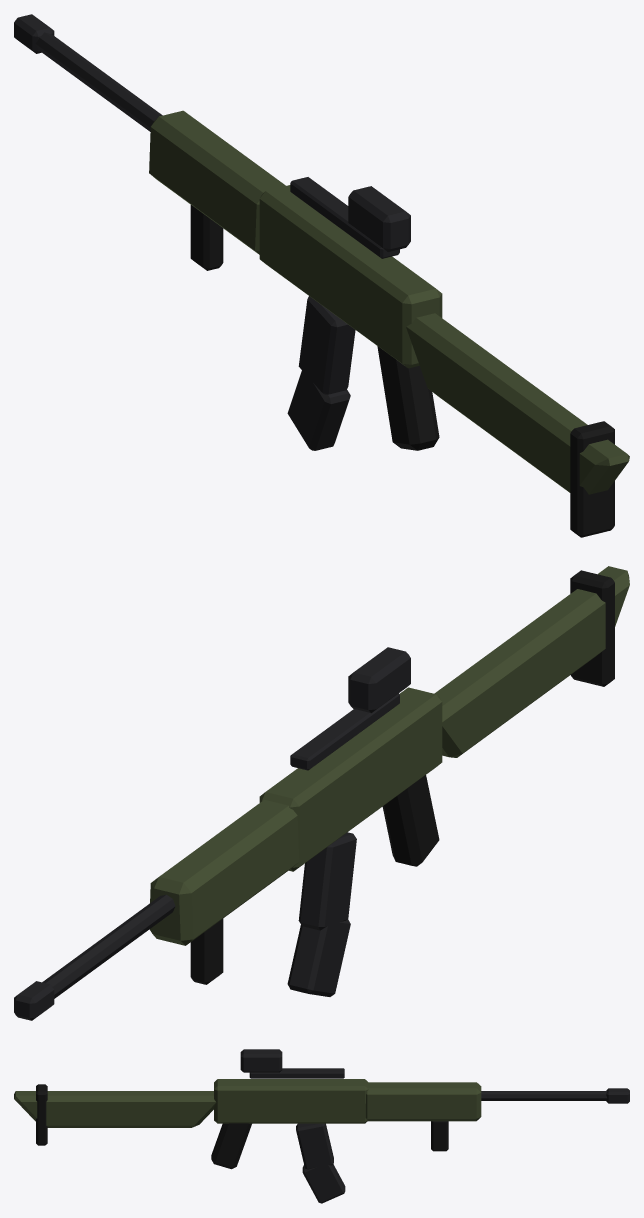
The model's file is fusil_assaut.glb.
The picture shows the model from 3 angles, top to bottom: view 1: azimuth 30°, elevation 25°; view 2: azimuth 150°, elevation 25°; view 3: azimuth 270°, elevation 25°; orthographic projection. The views are drawn at different scales.
Parts seen in each view (by area): view 1: fusil_assaut; view 2: fusil_assaut; view 3: fusil_assaut.
Part boxes in pixels (x1=…): fusil_assaut: x1=14, y1=14, x2=629, y2=537; fusil_assaut: x1=14, y1=566, x2=629, y2=1020; fusil_assaut: x1=14, y1=1049, x2=629, y2=1203.
Bounding box in the file's own units: 0.0444 × 0.2782 × 1.04.
